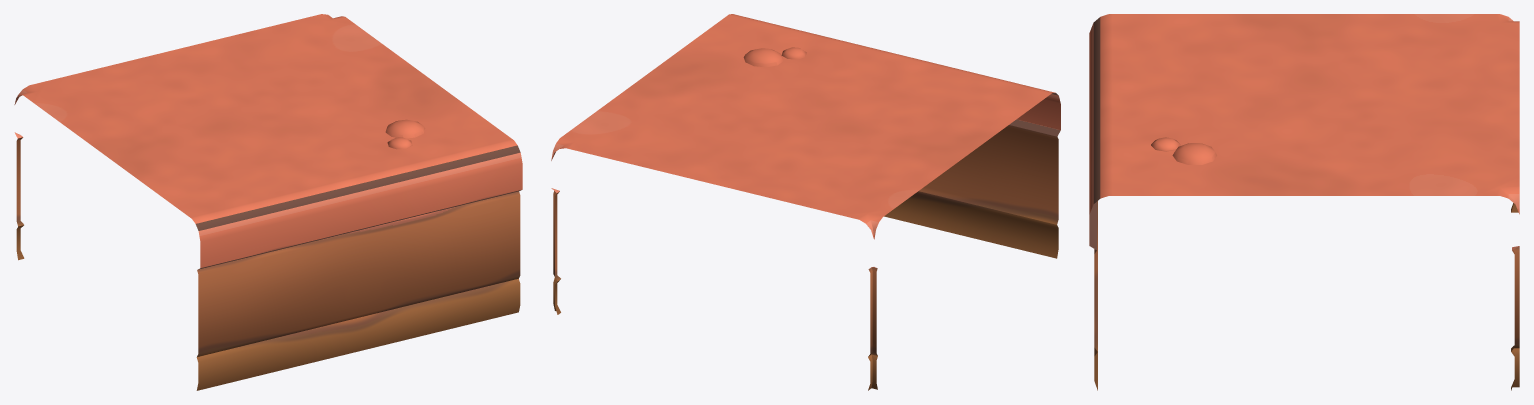
The model's file is wall_t_low.glb.
The picture shows the model from 3 angles, left to right: view 1: azimuth 30°, elevation 25°; view 2: azimuth 150°, elevation 25°; view 3: azimuth 270°, elevation 25°; orthographic projection. The views are drawn at different scales.
Parts seen in each view (by area): view 1: wall_t_low; view 2: wall_t_low; view 3: wall_t_low.
Boxes of the visible parts, x1,y1,x2,y2 form: wall_t_low: [14, 14, 522, 390]; wall_t_low: [551, 14, 1060, 390]; wall_t_low: [1089, 14, 1519, 390].
Bounding box in the file's own units: 1 × 0.5232 × 1.
Materials: 2 (2 with a texture image).
